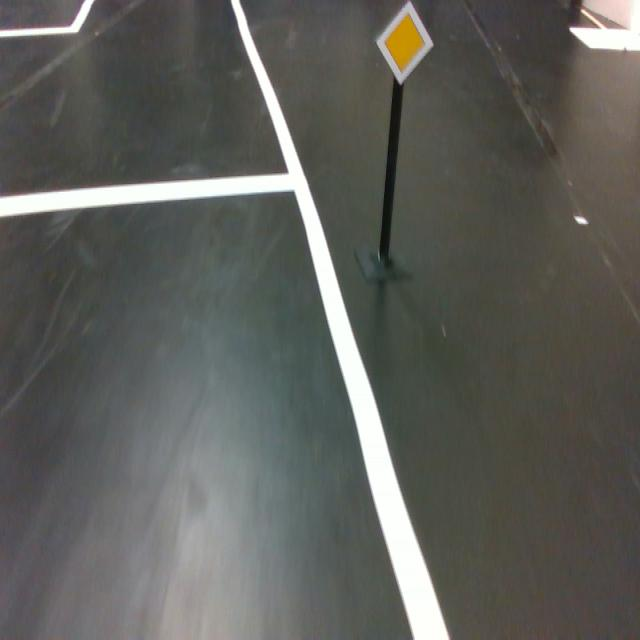priority-sign: (374, 0, 435, 87)
